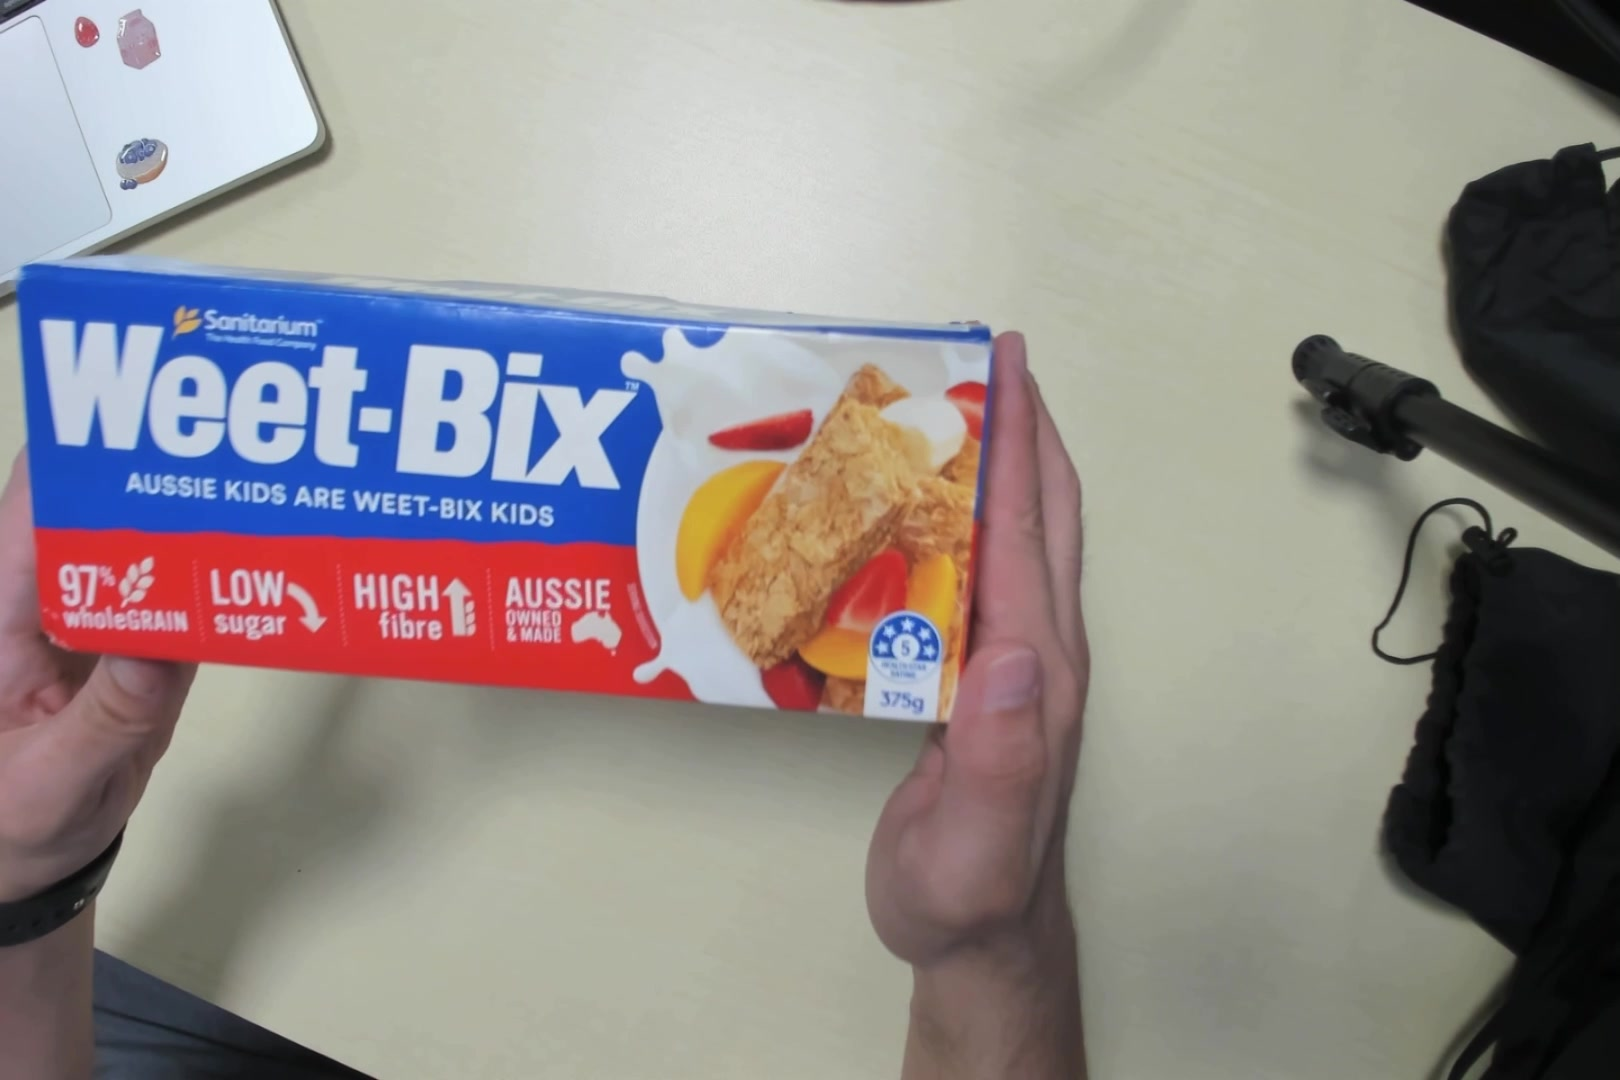BreakfastCereals_300-399g_NonHalal_NonHealthy: (23, 253, 969, 730)
